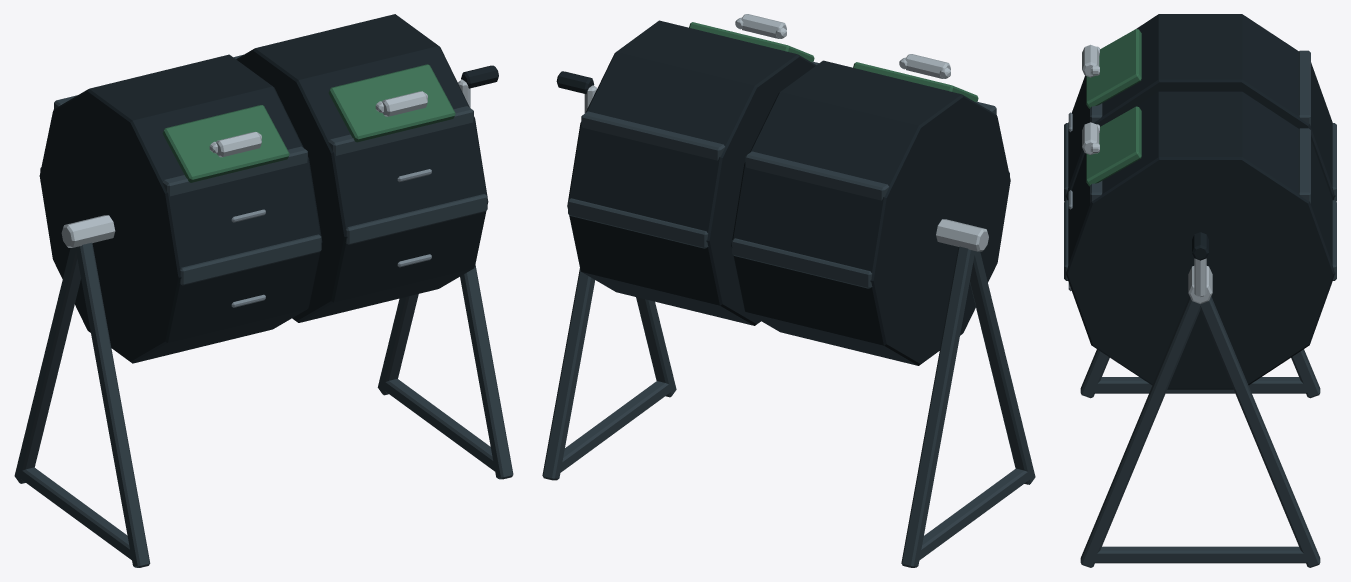
File: b11_dual_chamber_compost_tumbler.glb
3 renders of one model, left to right at view 1: azimuth 30°, elevation 25°; view 2: azimuth 150°, elevation 25°; view 3: azimuth 270°, elevation 25°, orthographic. The views are drawn at different scales.
Visible parts, largest first — view 1: b11_dual_chamber_compost_tumbler; view 2: b11_dual_chamber_compost_tumbler; view 3: b11_dual_chamber_compost_tumbler.
Boxes of the visible parts, <box> form: b11_dual_chamber_compost_tumbler: <box>14,14,513,567</box>; b11_dual_chamber_compost_tumbler: <box>542,14,1035,567</box>; b11_dual_chamber_compost_tumbler: <box>1064,14,1336,567</box>.
Bounding box in the file's own units: 1.37 × 1.26 × 0.788.
